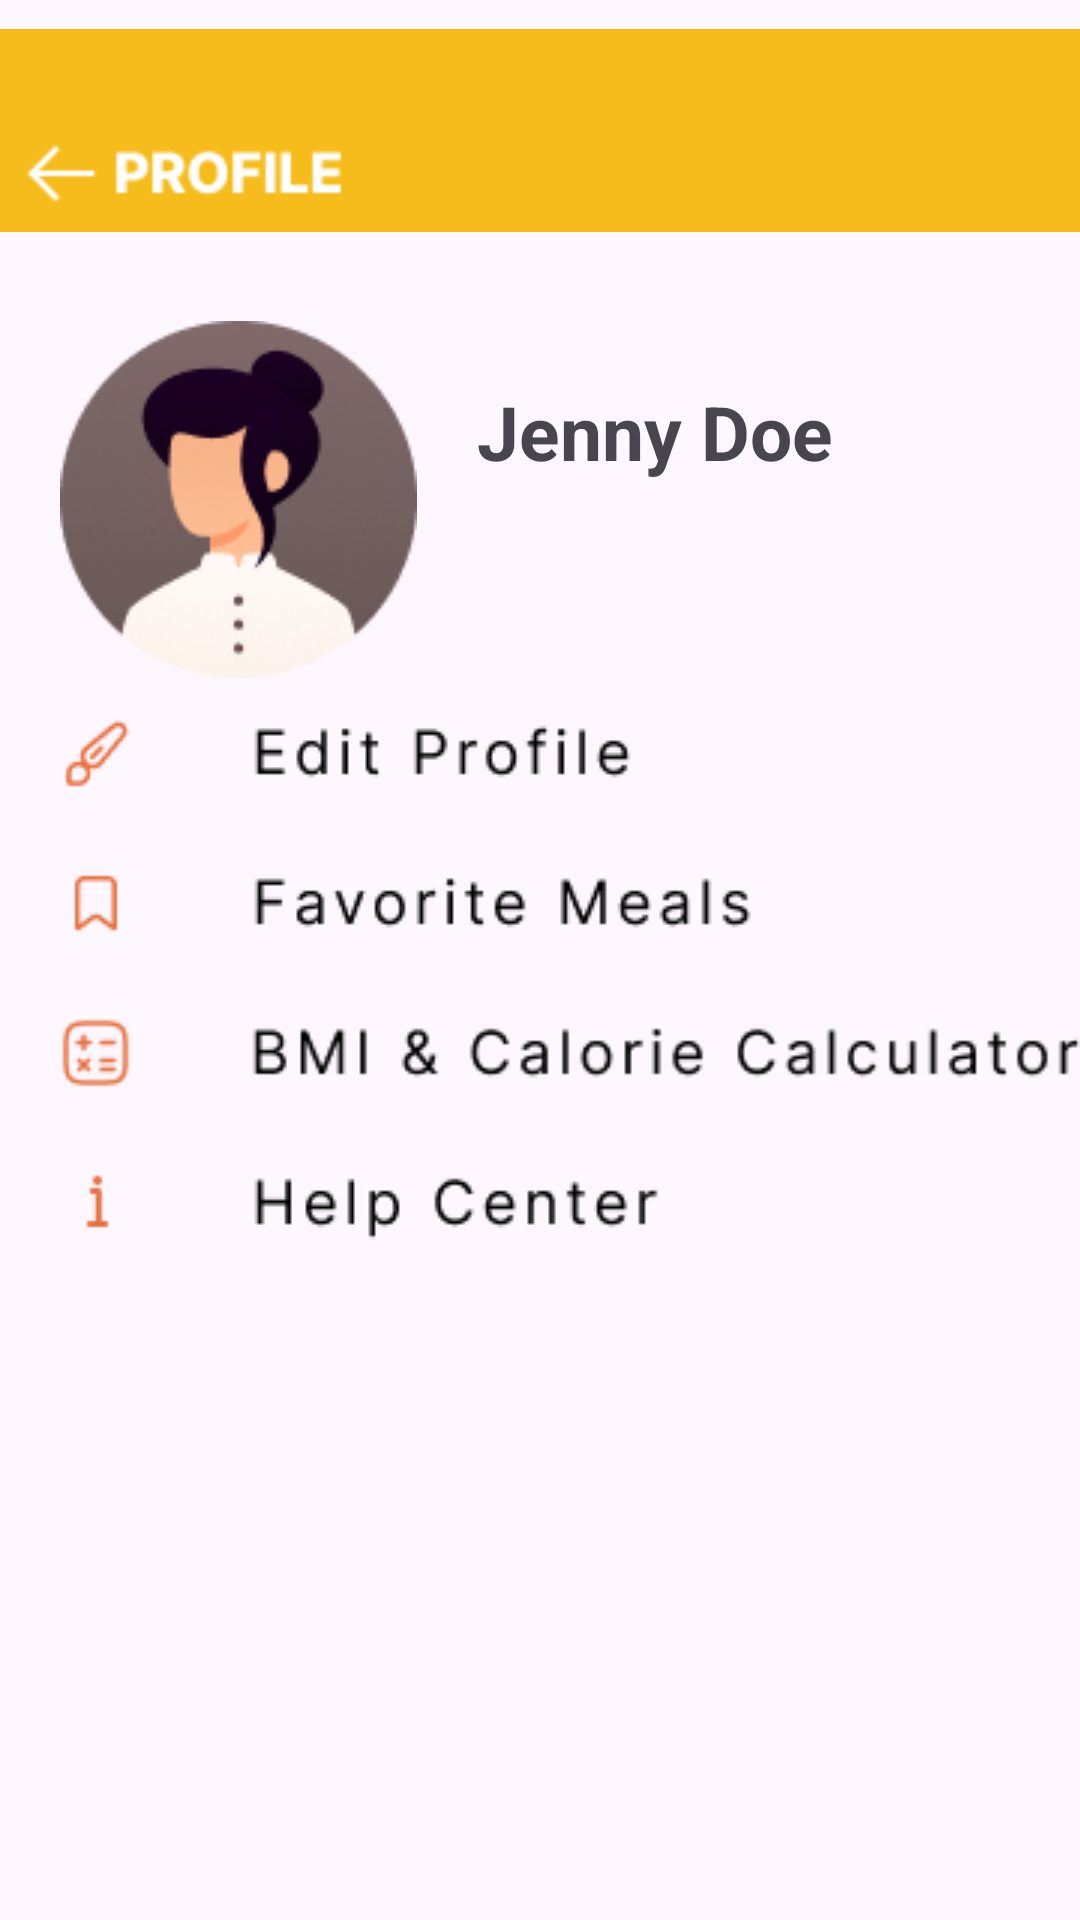

Named icons in this screenshot (1080*1920) and their bounding boxes, (x1, y1, x2, y2):
profile pic: (60, 321, 417, 655)
